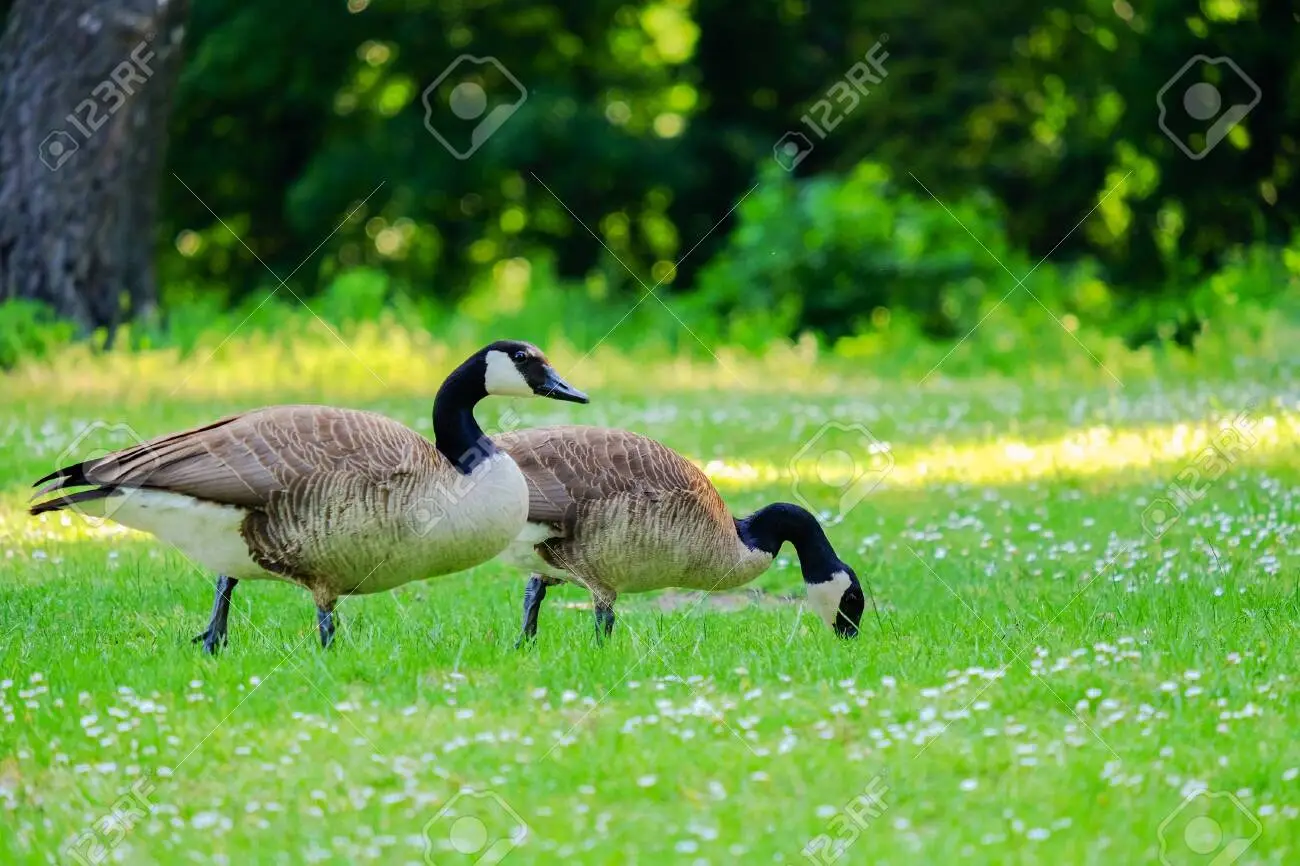goose: (13, 342, 597, 654), (607, 416, 883, 667)
